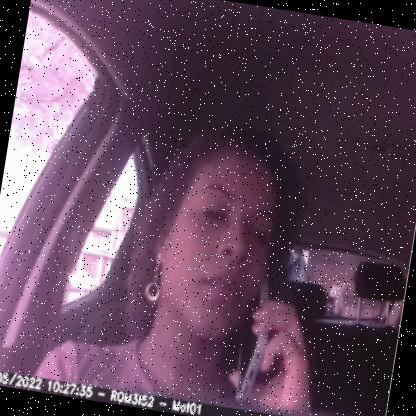phone: (221, 265, 293, 408)
